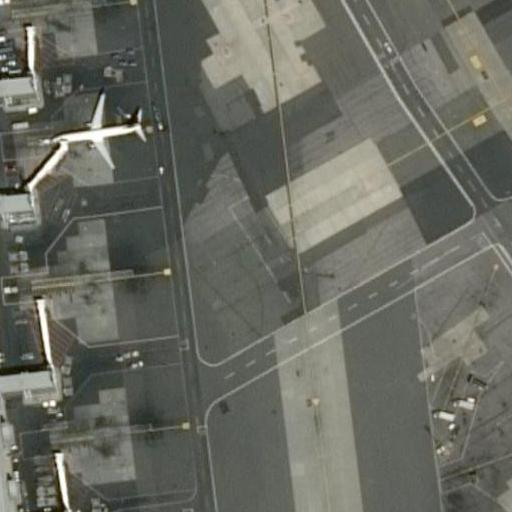Aircraft: (36, 81, 152, 175)
